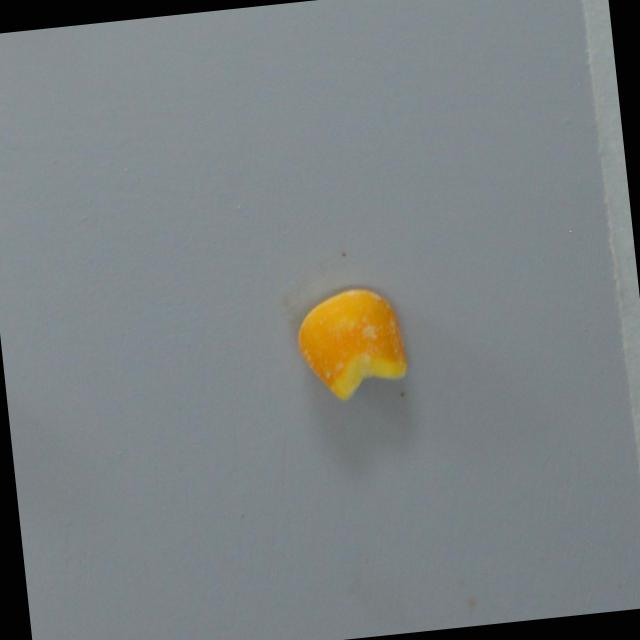pelicula: (293, 284, 409, 404)
